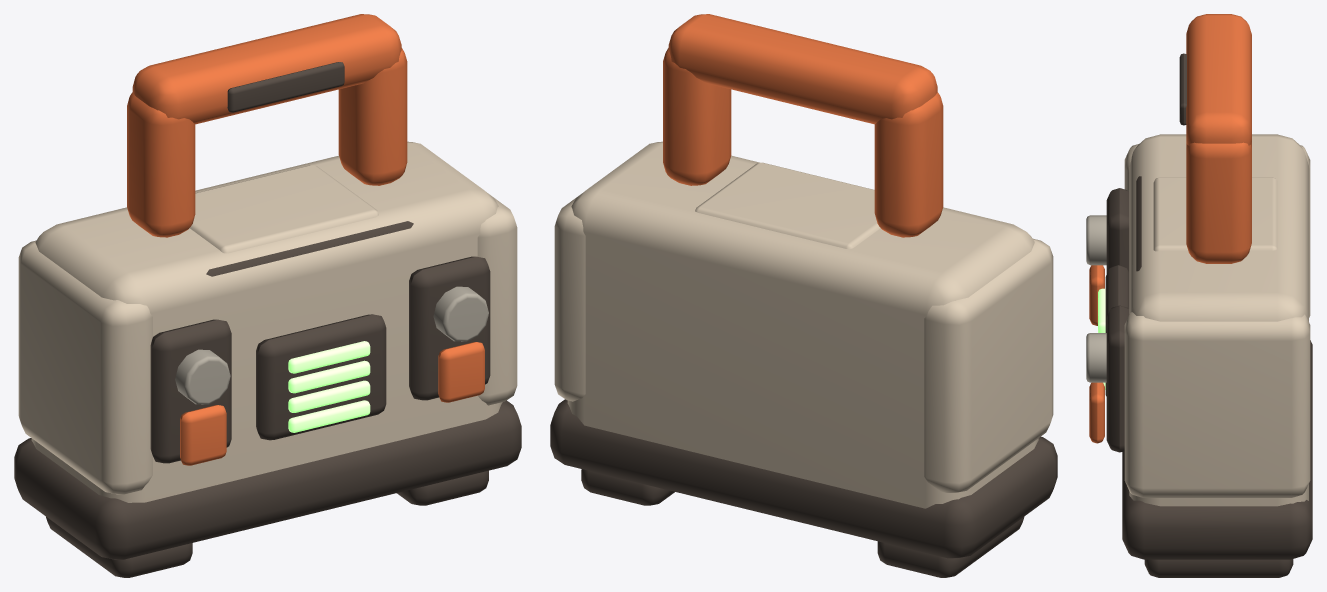
The model's file is last-shift-battery-retouch-v1.glb.
The picture shows the model from 3 angles, left to right: view 1: azimuth 30°, elevation 25°; view 2: azimuth 150°, elevation 25°; view 3: azimuth 270°, elevation 25°; orthographic projection. The views are drawn at different scales.
Visible parts, largest first — view 1: Battery_MainBody, Battery_LowerBumper, SideCap_L, Handle_Top, TopPanel, Gauge_Housing, Handle_L, Handle_R, TerminalGuard_R, TerminalGuard_L, SideCap_R, Handle_Grip (+11 smaller); view 2: Battery_MainBody, Battery_LowerBumper, SideCap_L, Handle_Top, TopPanel, Handle_L, Handle_R, SideCap_R, Foot_L, Foot_R; view 3: SideCap_R, Battery_MainBody, Battery_LowerBumper, Handle_Top, Handle_R, TopPanel, TerminalGuard_R, Foot_R, TerminalGuard_L, Gauge_Housing, TerminalMetal_L, TerminalMetal_R (+6 smaller).
Part boxes in pixels (x1,y1,x2,y2): Battery_MainBody: [31, 141, 502, 502]; Battery_LowerBumper: [14, 400, 521, 559]; SideCap_L: [18, 240, 152, 494]; Handle_Top: [132, 14, 401, 124]; TopPanel: [190, 165, 378, 253]; Gauge_Housing: [256, 314, 386, 440]; Handle_L: [127, 92, 195, 237]; Handle_R: [338, 48, 407, 185]; TerminalGuard_R: [409, 256, 490, 400]; TerminalGuard_L: [150, 319, 231, 463]; SideCap_R: [477, 195, 517, 405]; Handle_Grip: [227, 62, 344, 112]; Battery_MainBody: [567, 141, 1038, 508]; Battery_LowerBumper: [550, 399, 1057, 558]; SideCap_L: [924, 238, 1053, 492]; Handle_Top: [668, 14, 937, 124]; TopPanel: [695, 162, 880, 249]; Handle_L: [874, 92, 943, 237]; Handle_R: [663, 48, 731, 185]; SideCap_R: [554, 195, 585, 401]; Foot_L: [877, 516, 1024, 577]; Foot_R: [581, 469, 674, 505]; SideCap_R: [1124, 312, 1310, 497]; Battery_MainBody: [1129, 134, 1308, 506]; Battery_LowerBumper: [1122, 340, 1312, 559]; Handle_Top: [1186, 14, 1251, 145]; Handle_R: [1186, 142, 1251, 263]; TopPanel: [1153, 177, 1277, 251]; TerminalGuard_R: [1106, 305, 1129, 452]; Foot_R: [1144, 559, 1293, 577]; TerminalGuard_L: [1106, 188, 1129, 273]; Gauge_Housing: [1105, 265, 1129, 396]; TerminalMetal_L: [1086, 215, 1106, 265]; TerminalMetal_R: [1086, 333, 1106, 382].
Bounding box in the file's own units: 2.92 × 3.06 × 1.45.
